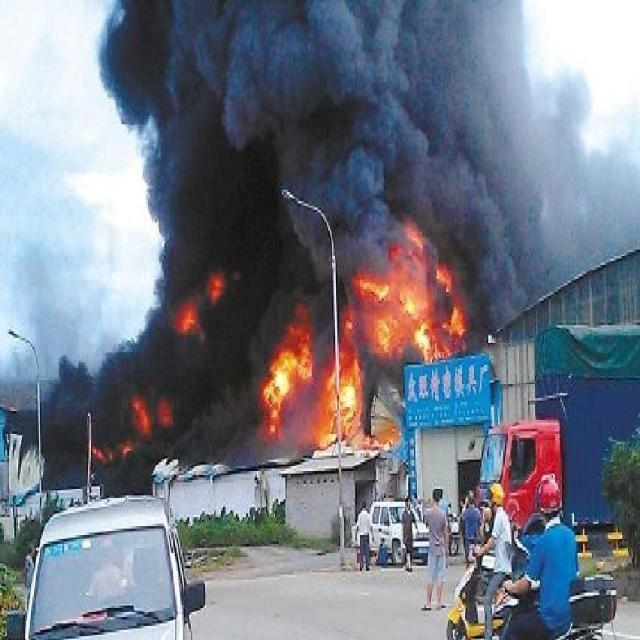Fire: (262, 232, 470, 446), (92, 393, 174, 462), (172, 298, 200, 336), (206, 270, 226, 304)
Smoke: (40, 1, 640, 490)
